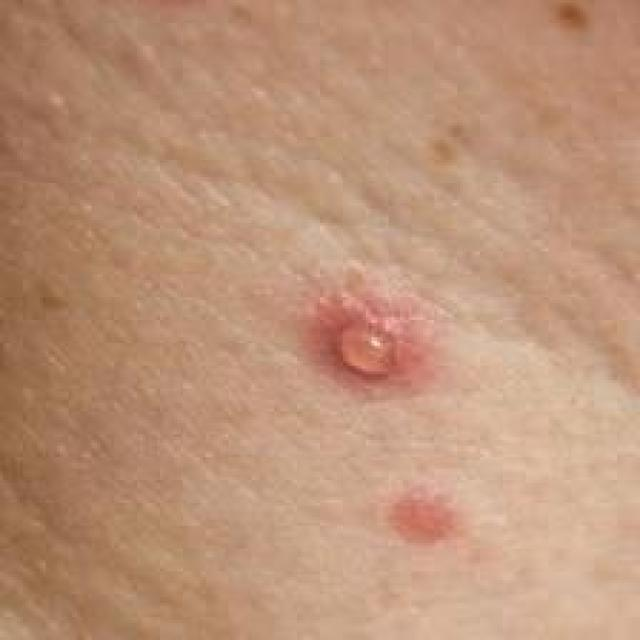others: (183, 161, 574, 634)
